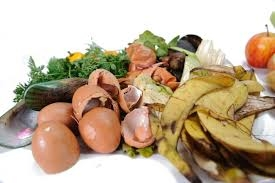kitchen_waste: (146, 72, 209, 183), (200, 76, 273, 166), (26, 119, 83, 181), (76, 105, 129, 155), (67, 84, 123, 124), (119, 108, 158, 151), (86, 67, 127, 106), (243, 22, 275, 71), (36, 99, 76, 134), (126, 45, 158, 71), (116, 82, 144, 110), (63, 48, 88, 64)
